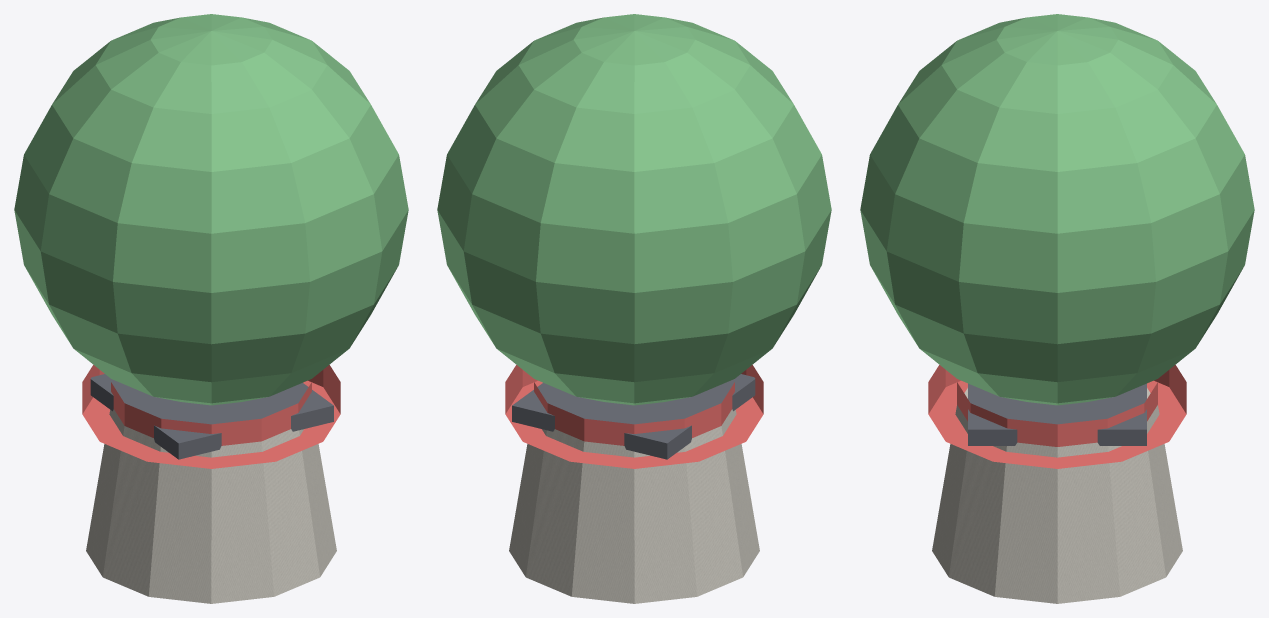
Rendered from theme-park-rides-and-coasters-theme-park-rides-and-coa-7a3f3d91__28701.glb.
The picture shows the model from 3 angles, left to right: view 1: azimuth 30°, elevation 25°; view 2: azimuth 150°, elevation 25°; view 3: azimuth 270°, elevation 25°; orthographic projection.
Parts seen in each view (by area): view 1: theme-park-rides-and-coasters-topiary-ball; view 2: theme-park-rides-and-coasters-topiary-ball; view 3: theme-park-rides-and-coasters-topiary-ball.
Part boxes in pixels (x1=…): theme-park-rides-and-coasters-topiary-ball: x1=14, y1=14, x2=408, y2=603; theme-park-rides-and-coasters-topiary-ball: x1=437, y1=14, x2=831, y2=603; theme-park-rides-and-coasters-topiary-ball: x1=860, y1=14, x2=1254, y2=603.
Size of the model in its own units: 1.1 by 1.6 by 1.1.
5 materials, 2 textured.
